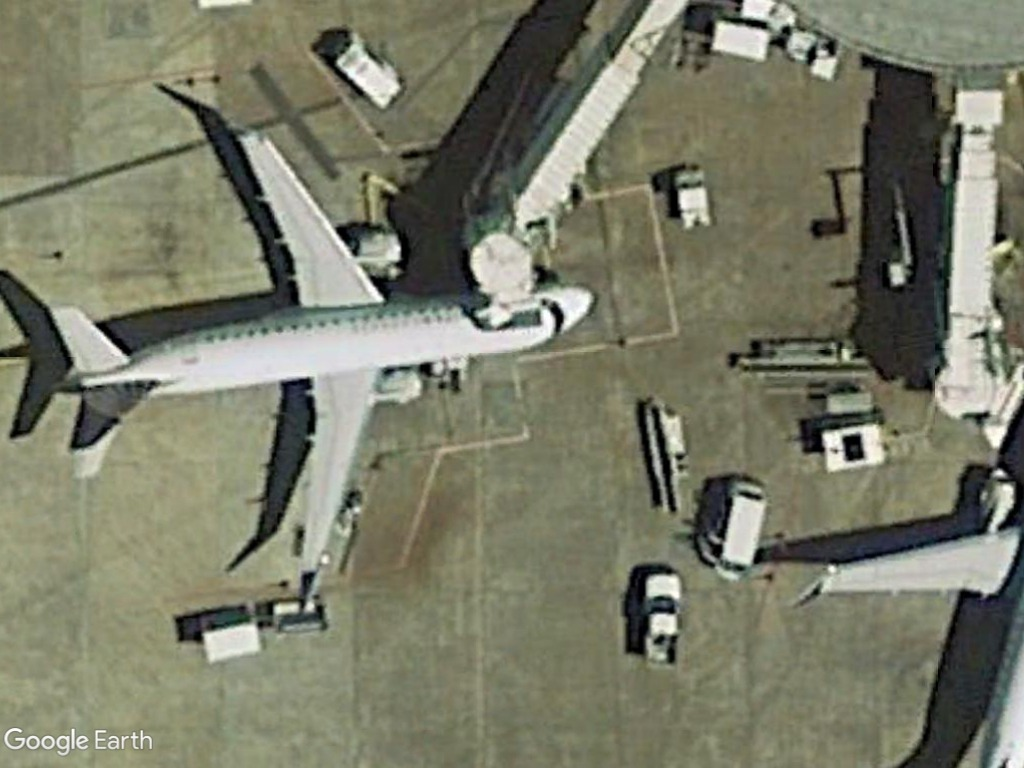airliner: (36, 116, 607, 620)
other: (634, 562, 688, 673)
